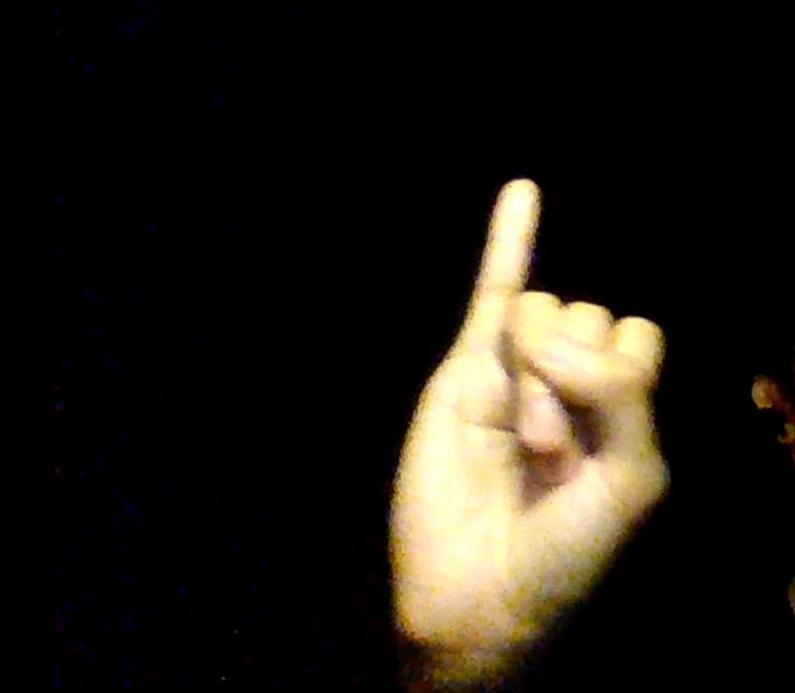i: (386, 176, 674, 647)
